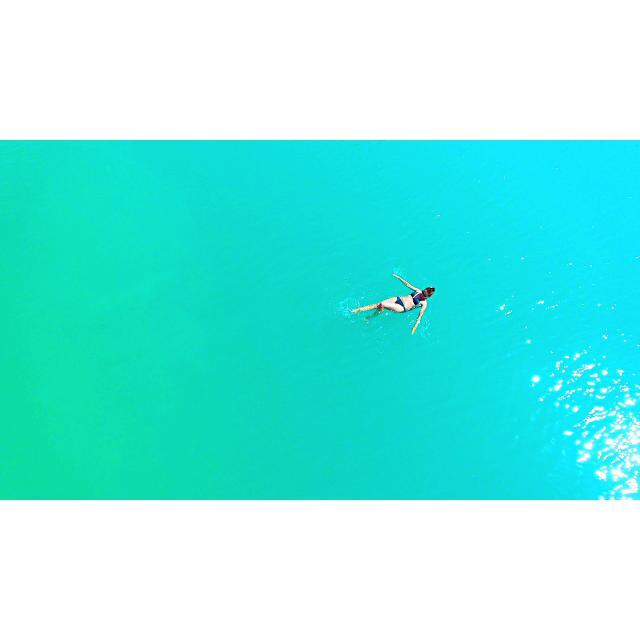human: (350, 274, 436, 336)
